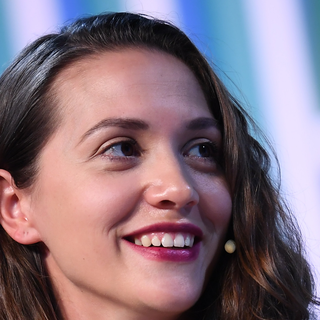eye: (92, 136, 142, 164), (177, 136, 220, 162)
